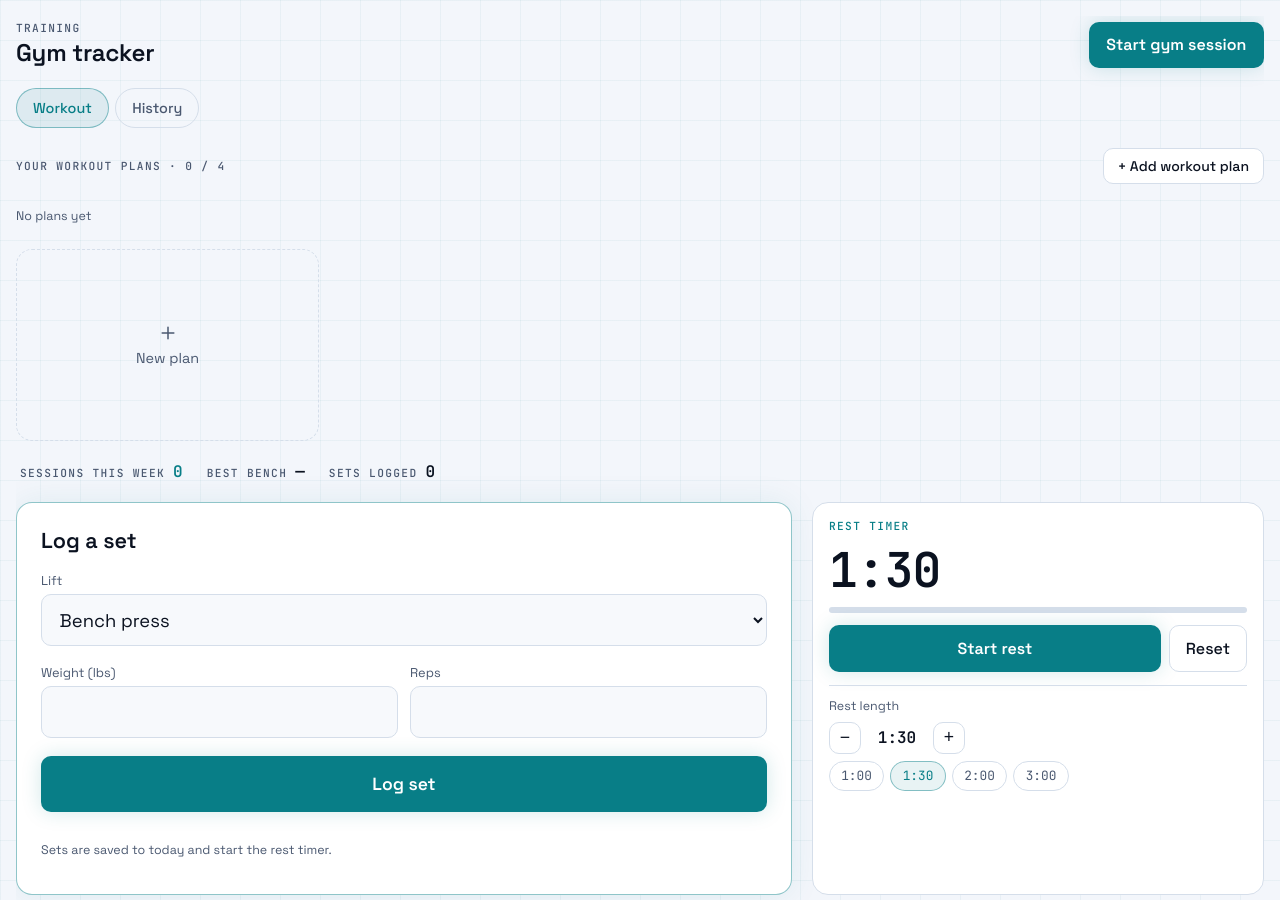
it: Your workout plans › a suggestion uses the spelling you already have
The width and height of the screenshot is (1280, 900).
Click the button "+ Add workout plan" at [1183, 166], box [1103,148,1264,184]
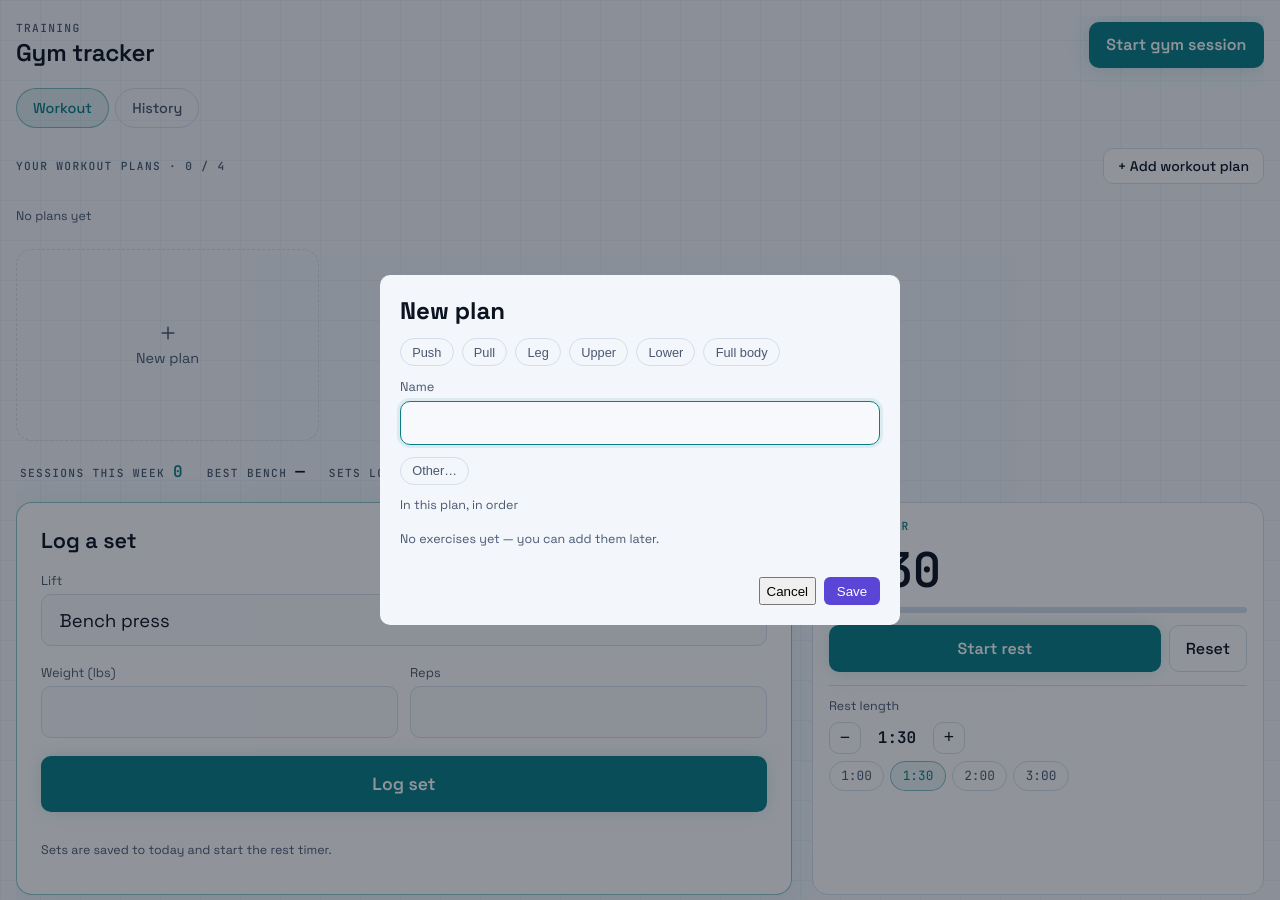
Click the button "Push" at [427, 352], box [400,338,454,366]
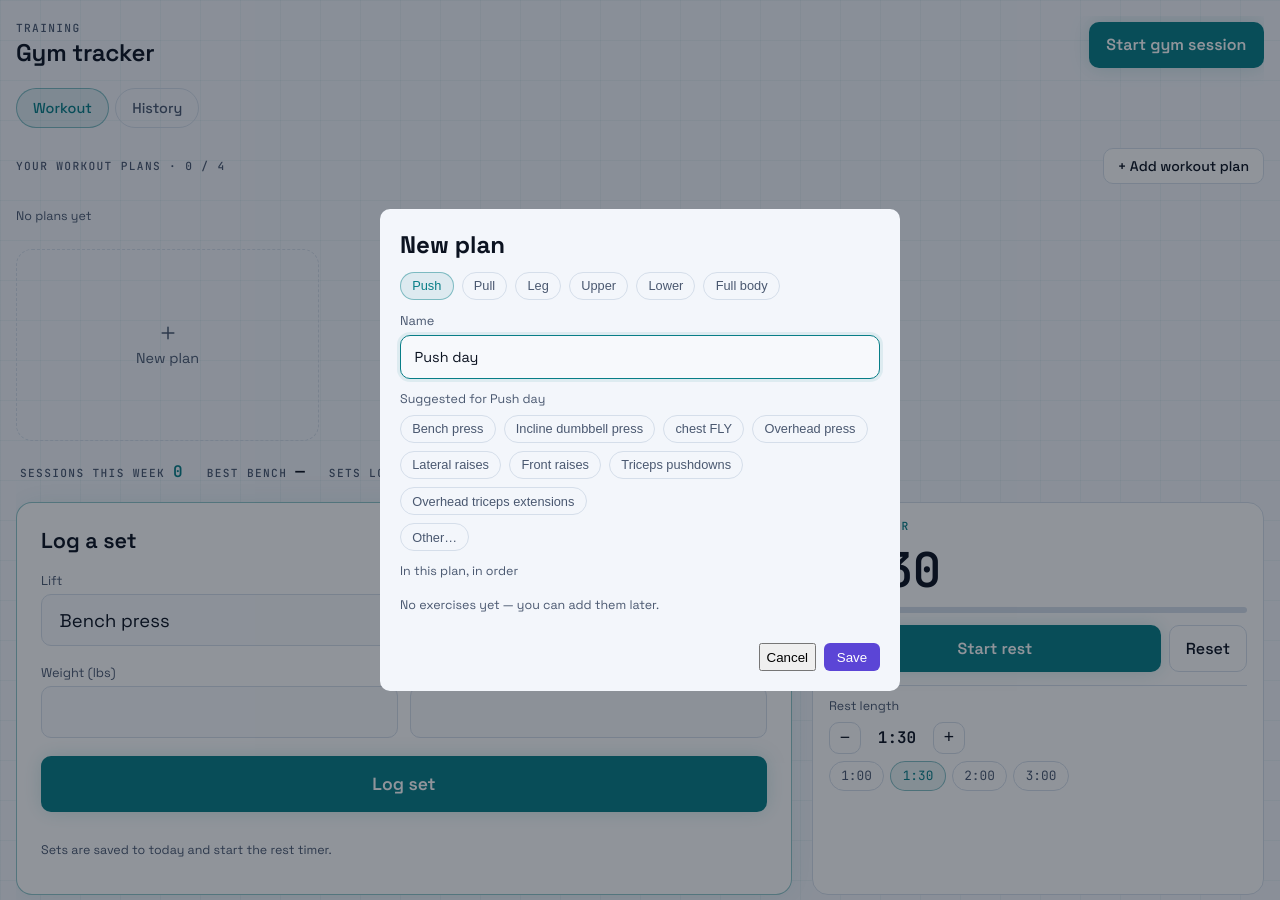
expect the button "chest FLY" is shown: met, box [663,415,744,443]
